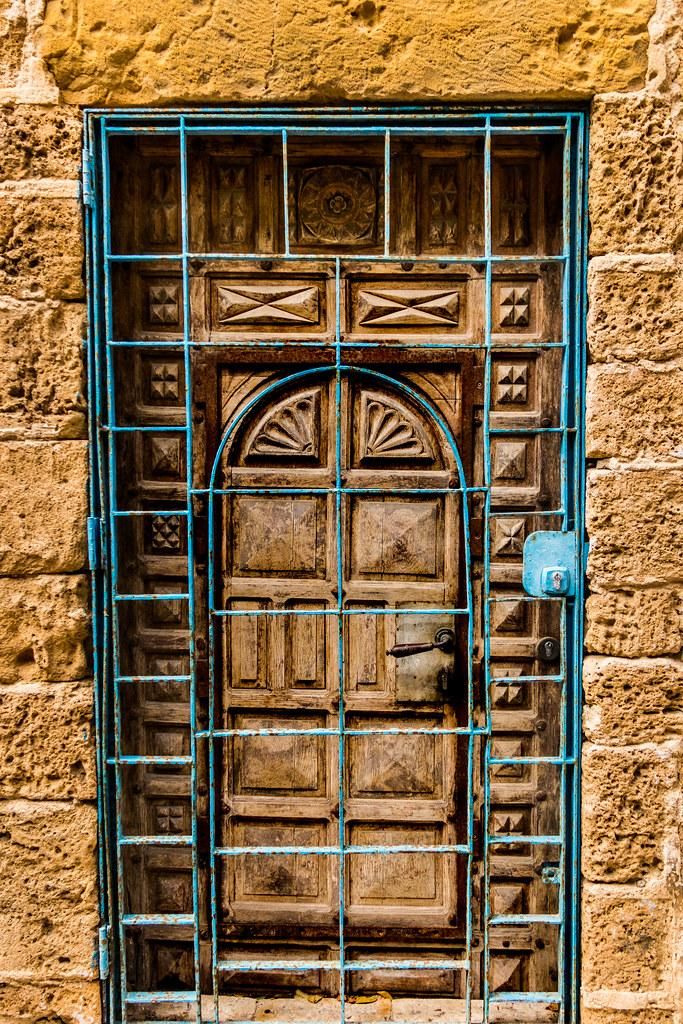door: (86, 107, 587, 1022)
